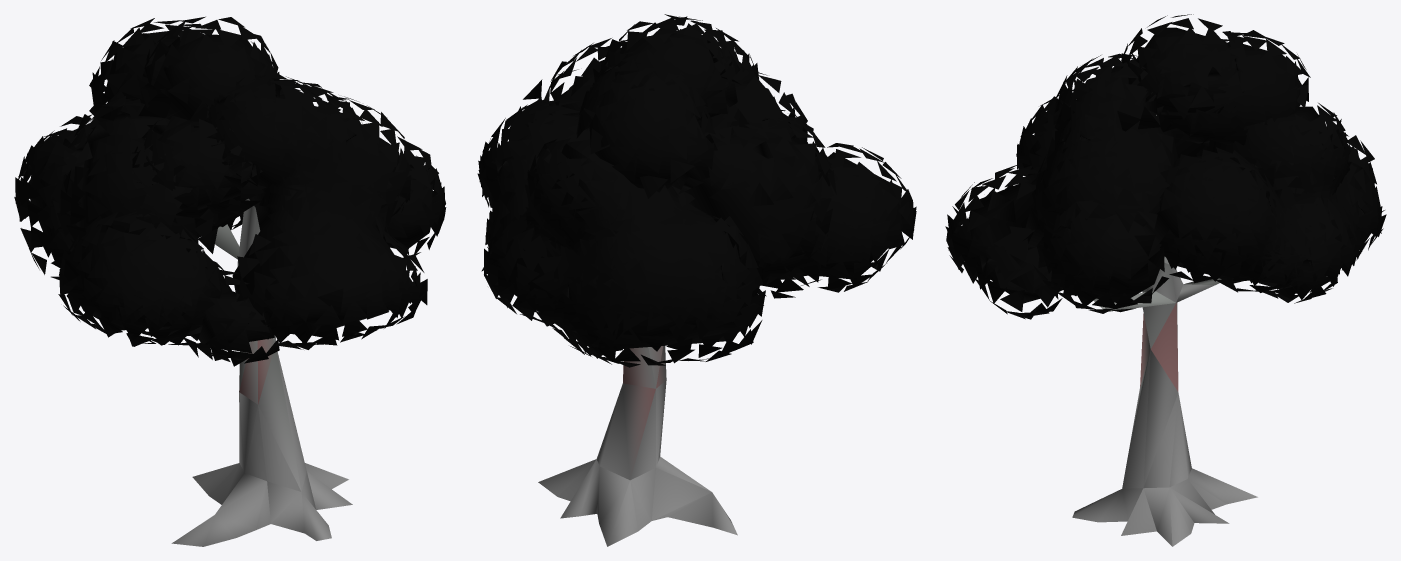
File: SM_ENV_LKNVLD_Tree_B_Lod3.gltf
The picture shows the model from 3 angles, left to right: view 1: azimuth 30°, elevation 25°; view 2: azimuth 150°, elevation 25°; view 3: azimuth 270°, elevation 25°; orthographic projection. The views are drawn at different scales.
Parts seen in each view (by area): view 1: SM_ENV_LKNVLD_Tree_B_Lod3; view 2: SM_ENV_LKNVLD_Tree_B_Lod3; view 3: SM_ENV_LKNVLD_Tree_B_Lod3.
Boxes of the visible parts, <box> form: SM_ENV_LKNVLD_Tree_B_Lod3: <box>14,16,446,546</box>; SM_ENV_LKNVLD_Tree_B_Lod3: <box>477,14,916,546</box>; SM_ENV_LKNVLD_Tree_B_Lod3: <box>945,14,1386,546</box>.
Bounding box in the file's own units: 7.26 × 9.26 × 7.8.
